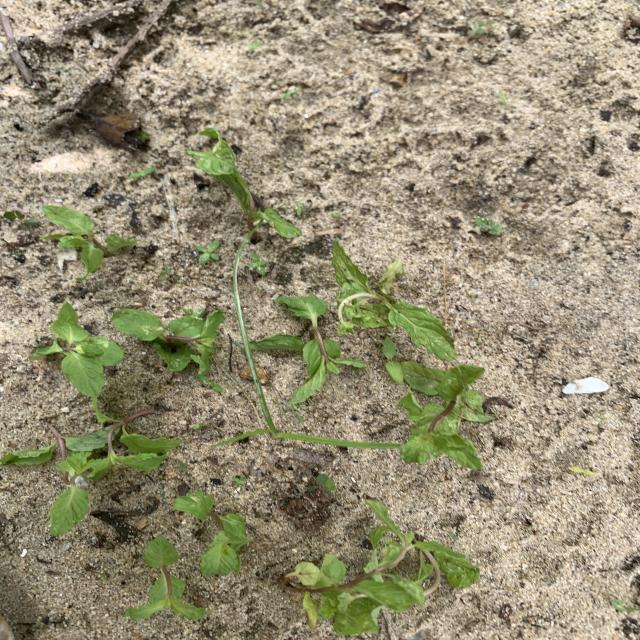crop: (284, 500, 479, 635), (332, 240, 457, 362), (250, 296, 368, 404), (188, 127, 301, 239), (398, 362, 496, 469), (112, 309, 224, 392), (31, 302, 123, 400), (76, 411, 181, 479), (125, 536, 208, 620), (42, 205, 136, 279), (50, 429, 114, 535), (174, 492, 249, 576), (14, 448, 51, 465)
weed: (233, 254, 277, 437), (210, 421, 404, 450), (383, 337, 404, 384), (306, 473, 336, 502), (196, 240, 221, 265)
